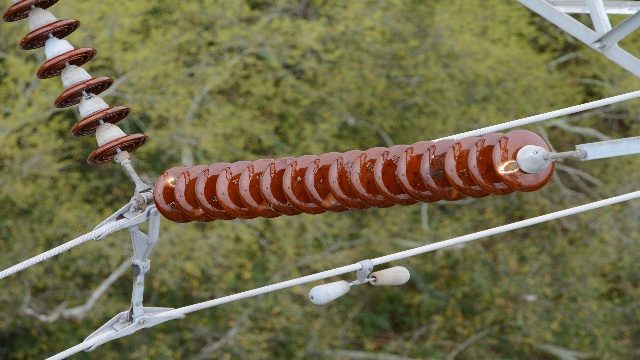insulator_unspecified: (154, 129, 554, 223), (2, 0, 148, 165)
pollution_flashover_local: (500, 159, 521, 175), (321, 191, 338, 210), (163, 175, 179, 189), (257, 199, 271, 213), (192, 205, 206, 218)
